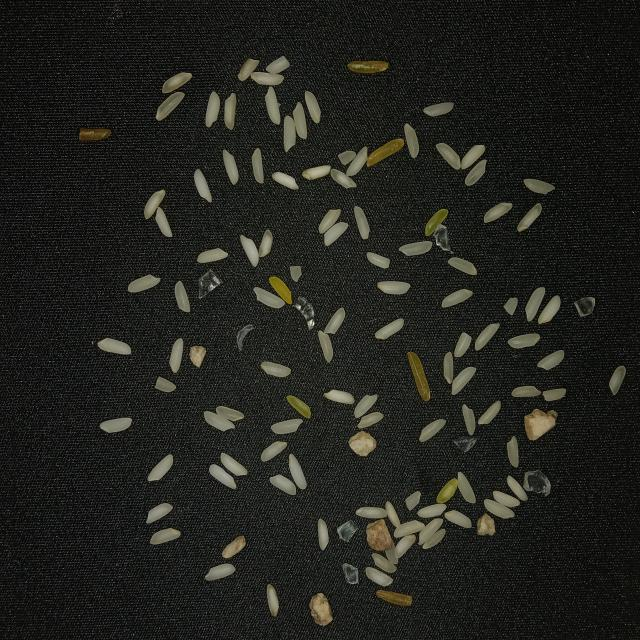Broken: (365, 138, 406, 166), (269, 276, 293, 305), (375, 590, 413, 606), (287, 395, 311, 419), (437, 478, 458, 504), (238, 58, 260, 82), (348, 61, 390, 73), (78, 128, 112, 141), (266, 56, 290, 74), (366, 253, 391, 269), (154, 376, 177, 393), (405, 491, 421, 511), (338, 149, 358, 165), (504, 297, 518, 316), (289, 266, 302, 282)
Full: (407, 352, 431, 402), (155, 92, 185, 121), (474, 323, 501, 351), (147, 453, 173, 482), (525, 287, 546, 322), (436, 142, 462, 170), (451, 367, 477, 395), (518, 203, 542, 233), (253, 287, 285, 309), (482, 202, 514, 224), (419, 418, 447, 443), (209, 464, 237, 489), (203, 411, 236, 432), (374, 318, 404, 341), (346, 146, 369, 176), (460, 144, 486, 170), (464, 159, 488, 187), (538, 295, 561, 324), (265, 86, 282, 125), (162, 72, 192, 94), (144, 190, 166, 220), (324, 221, 349, 247), (424, 209, 448, 236), (127, 274, 161, 293), (323, 306, 346, 334), (220, 453, 248, 476), (484, 499, 516, 519), (289, 454, 307, 489), (304, 90, 322, 124), (457, 472, 476, 504), (240, 235, 259, 267), (354, 394, 379, 418), (318, 209, 341, 235), (222, 150, 239, 185), (441, 290, 474, 308), (146, 502, 173, 524), (204, 563, 237, 581), (193, 168, 211, 201), (205, 91, 221, 128), (292, 102, 308, 139), (366, 566, 394, 587), (330, 168, 358, 189), (260, 441, 288, 462), (269, 474, 297, 495), (366, 558, 394, 579), (354, 206, 371, 240), (324, 214, 349, 237), (371, 552, 397, 574), (523, 178, 556, 195), (318, 329, 334, 364), (97, 338, 132, 354), (404, 123, 420, 158), (394, 520, 425, 538), (478, 401, 501, 425), (422, 528, 447, 550), (507, 475, 528, 501), (270, 418, 304, 434), (156, 206, 173, 238), (537, 350, 564, 370), (169, 338, 184, 374), (444, 511, 474, 529), (100, 417, 133, 433), (175, 280, 191, 313), (150, 528, 181, 545), (324, 387, 355, 404), (398, 241, 433, 256), (448, 258, 477, 276), (395, 534, 416, 558), (224, 93, 237, 130), (508, 334, 540, 349), (197, 248, 229, 263), (423, 102, 455, 117), (261, 361, 291, 377), (611, 364, 627, 394), (214, 406, 244, 422), (377, 281, 411, 295), (250, 72, 284, 86), (454, 332, 472, 358), (272, 172, 298, 190), (493, 491, 520, 508), (284, 115, 296, 153), (302, 165, 332, 180), (417, 503, 447, 518), (462, 404, 476, 436), (358, 412, 384, 429), (385, 501, 401, 528), (252, 147, 264, 182), (258, 229, 273, 257), (267, 584, 279, 616), (507, 436, 519, 467), (356, 506, 387, 518), (512, 386, 542, 398), (318, 518, 329, 550), (443, 351, 453, 385), (543, 388, 568, 401), (385, 540, 398, 564)
